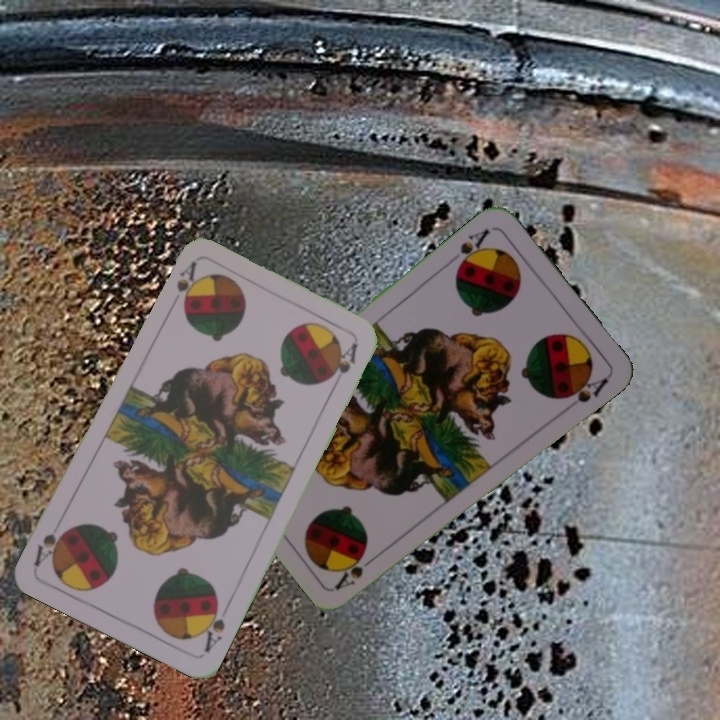SA: (331, 549, 382, 592), (452, 224, 493, 274), (196, 596, 228, 656), (172, 258, 199, 305)
